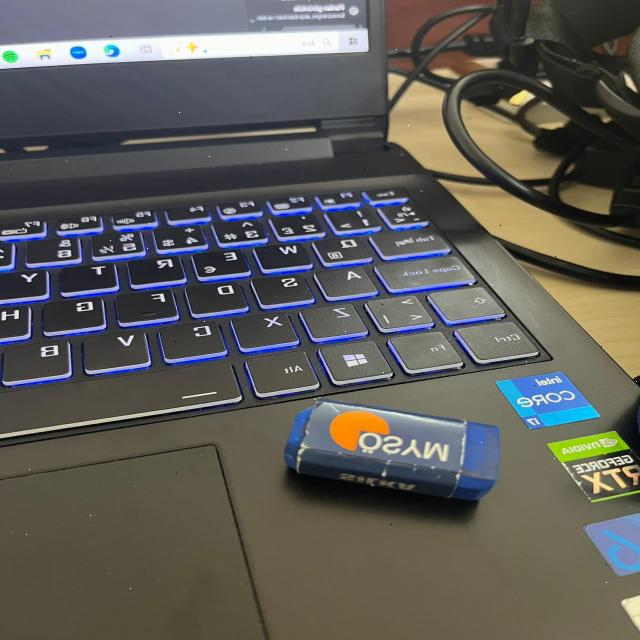eraser: (280, 390, 512, 503)
